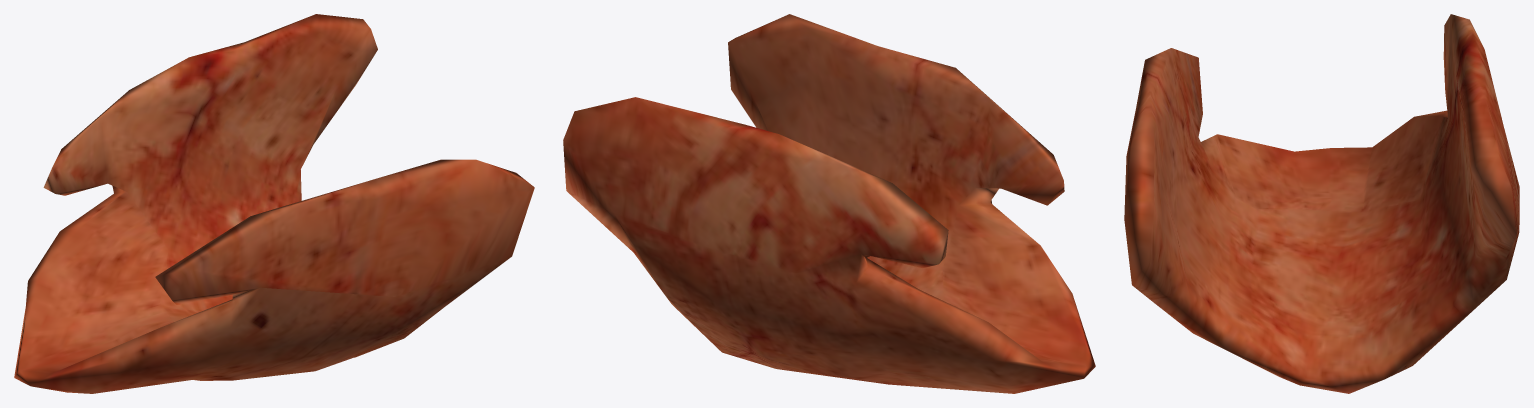
File: Thyroid_Laryngeal_Cartilage.glb
3 renders of one model, left to right at view 1: azimuth 30°, elevation 25°; view 2: azimuth 150°, elevation 25°; view 3: azimuth 270°, elevation 25°, orthographic. The views are drawn at different scales.
Parts seen in each view (by area): view 1: Thyroid_Laryngeal_Cartilage; view 2: Thyroid_Laryngeal_Cartilage; view 3: Thyroid_Laryngeal_Cartilage.
Boxes of the visible parts, x1,y1,x2,y2 form: Thyroid_Laryngeal_Cartilage: [14, 14, 534, 393]; Thyroid_Laryngeal_Cartilage: [563, 14, 1095, 393]; Thyroid_Laryngeal_Cartilage: [1124, 14, 1519, 393].
Size of the model in its own units: 0.0811 by 0.0508 by 0.0565.
Materials: 1 (1 with a texture image).
